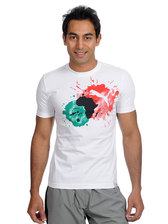clothoes: (32, 60, 138, 192)
